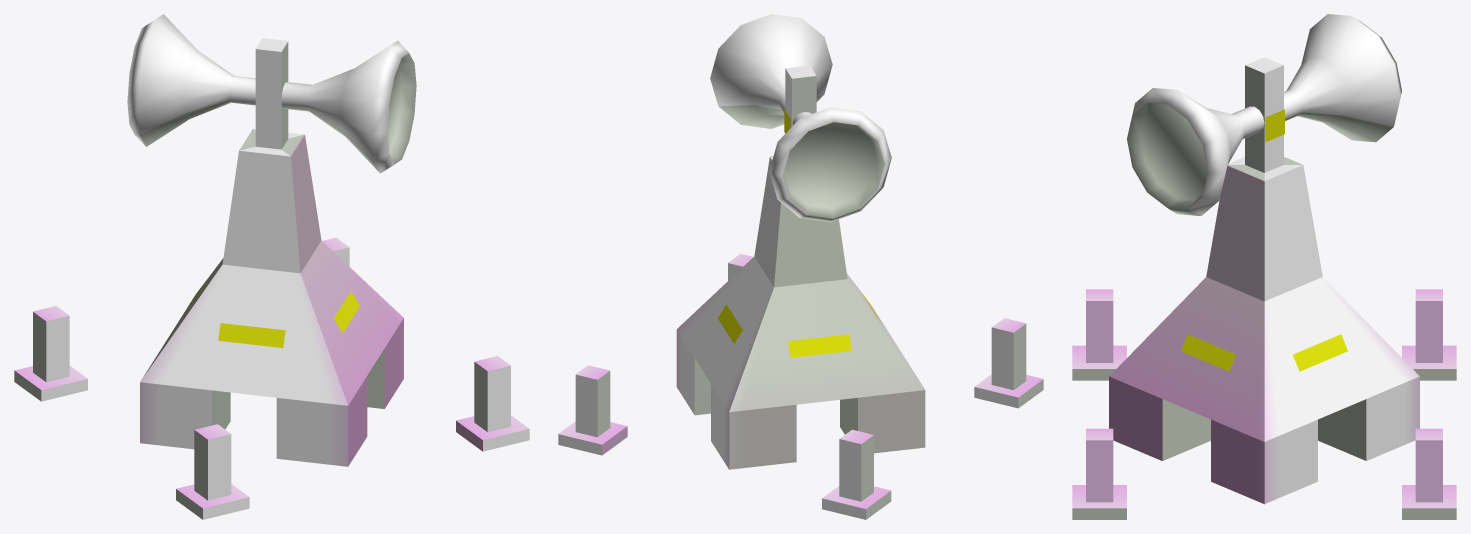
File: CommTower.Neutral.glb
3 views of the same model, side by side, from view 1: azimuth 30°, elevation 25°; view 2: azimuth 150°, elevation 25°; view 3: azimuth 270°, elevation 25° (orthographic). The views are drawn at different scales.
Parts seen in each view (by area): view 1: CommTower.Neutral; view 2: CommTower.Neutral; view 3: CommTower.Neutral.
Part boxes in pixels (bbox=[...]): CommTower.Neutral: bbox=[14, 14, 529, 519]; CommTower.Neutral: bbox=[558, 14, 1043, 519]; CommTower.Neutral: bbox=[1072, 14, 1456, 519].
Bounding box in the file's own units: 2.8 × 3.1 × 2.8.
2 materials, 1 textured.
